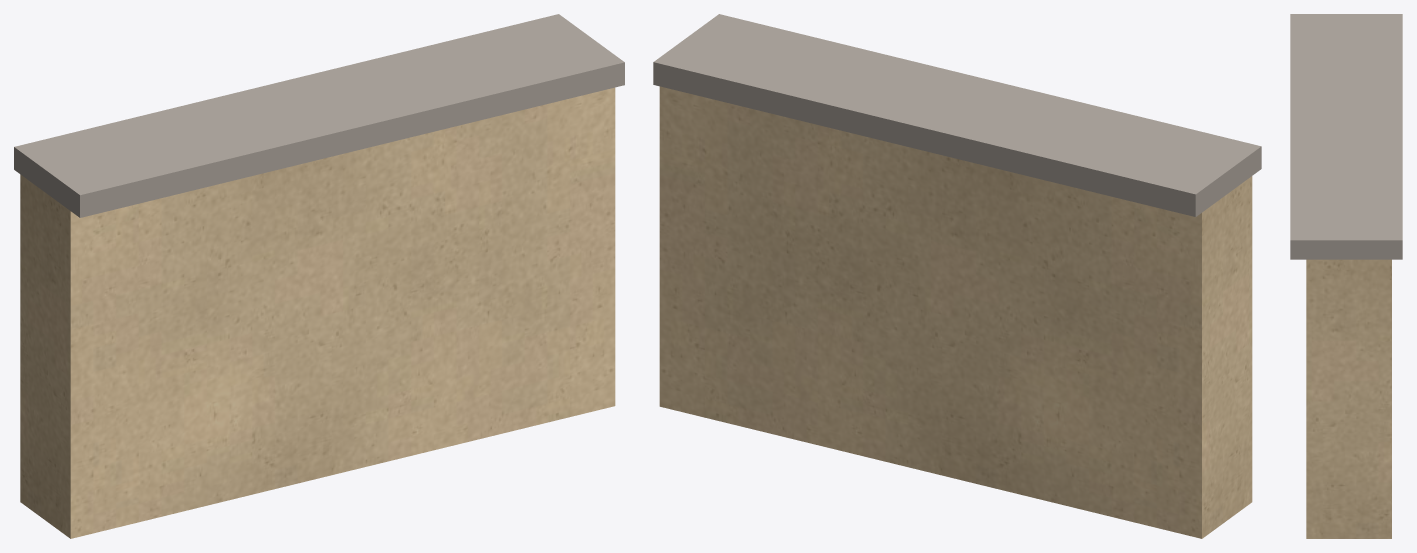
The model's file is parapet.glb.
3 views of the same model, side by side, from view 1: azimuth 30°, elevation 25°; view 2: azimuth 150°, elevation 25°; view 3: azimuth 270°, elevation 25° (orthographic). The views are drawn at different scales.
Visible parts, largest first — view 1: parapet_render, parapet_coping; view 2: parapet_render, parapet_coping; view 3: parapet_coping, parapet_render.
Part boxes in pixels (<box>): parapet_render: <box>20,87,615,538</box>; parapet_coping: <box>14,14,624,217</box>; parapet_render: <box>659,86,1252,538</box>; parapet_coping: <box>653,14,1261,216</box>; parapet_coping: <box>1290,14,1402,259</box>; parapet_render: <box>1306,259,1391,538</box>.
Bounding box in the file's own units: 2 × 1.23 × 0.42.
2 materials, 1 textured.
